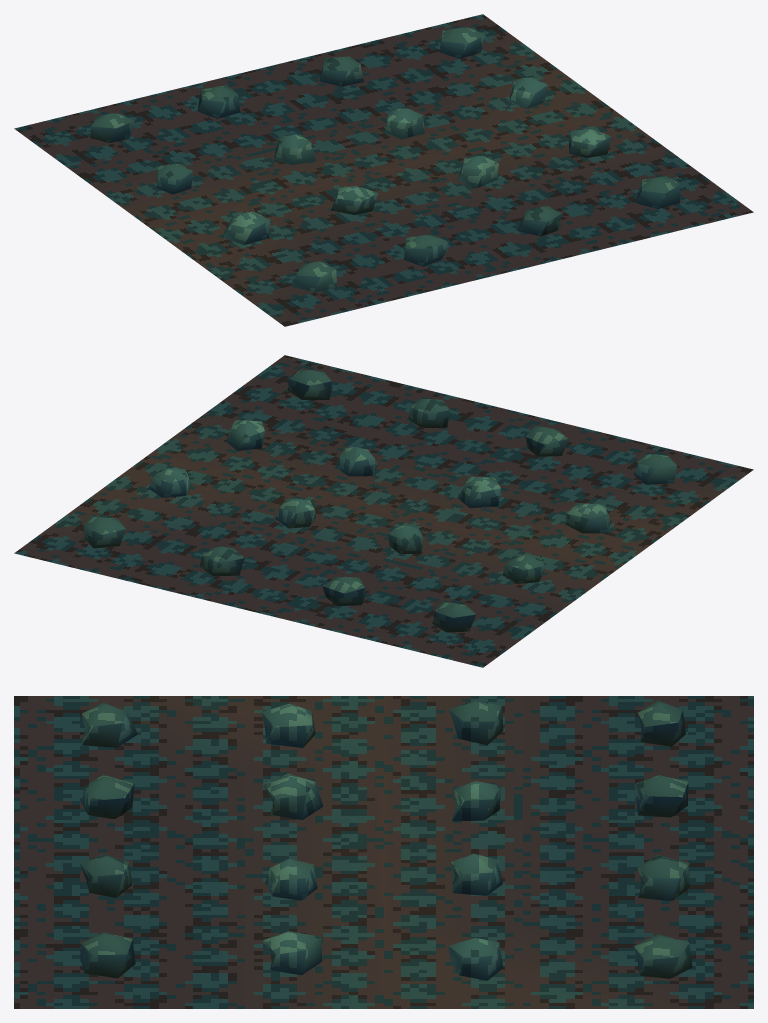
Rendered from mnat.field__cabbage.glb.
The picture shows the model from 3 angles, top to bottom: view 1: azimuth 30°, elevation 25°; view 2: azimuth 150°, elevation 25°; view 3: azimuth 270°, elevation 25°; orthographic projection. The views are drawn at different scales.
Parts seen in each view (by area): view 1: kit_shell_soil, kit_crop; view 2: kit_shell_soil, kit_crop; view 3: kit_shell_soil, kit_crop.
Boxes of the visible parts, x1=… form: kit_shell_soil: x1=14, y1=14, x2=753, y2=326; kit_crop: x1=90, y1=27, x2=680, y2=292; kit_shell_soil: x1=14, y1=355, x2=753, y2=667; kit_crop: x1=83, y1=369, x2=677, y2=632; kit_shell_soil: x1=14, y1=696, x2=753, y2=1008; kit_crop: x1=80, y1=700, x2=692, y2=980.
Size of the model in its own units: 8 by 0.48 by 8.
Materials: 2 (2 with a texture image).
